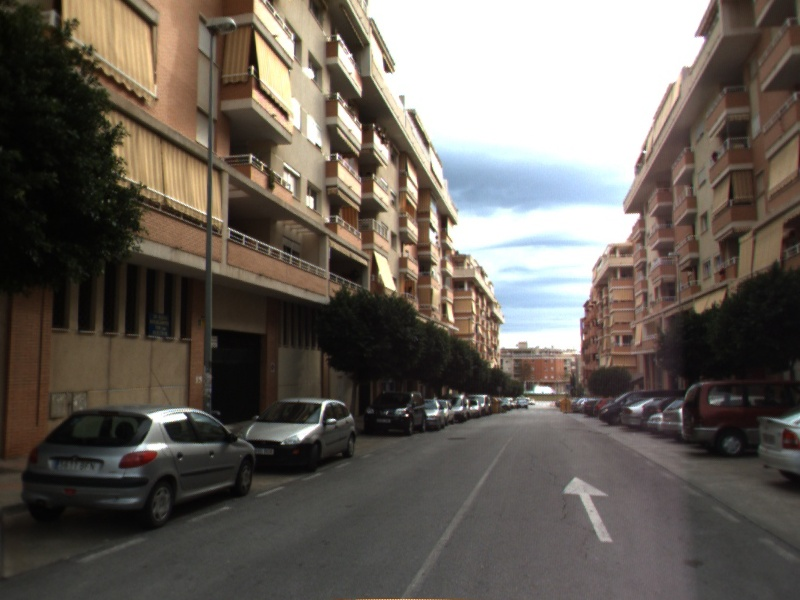STRAIGHT: (558, 474, 616, 544)
